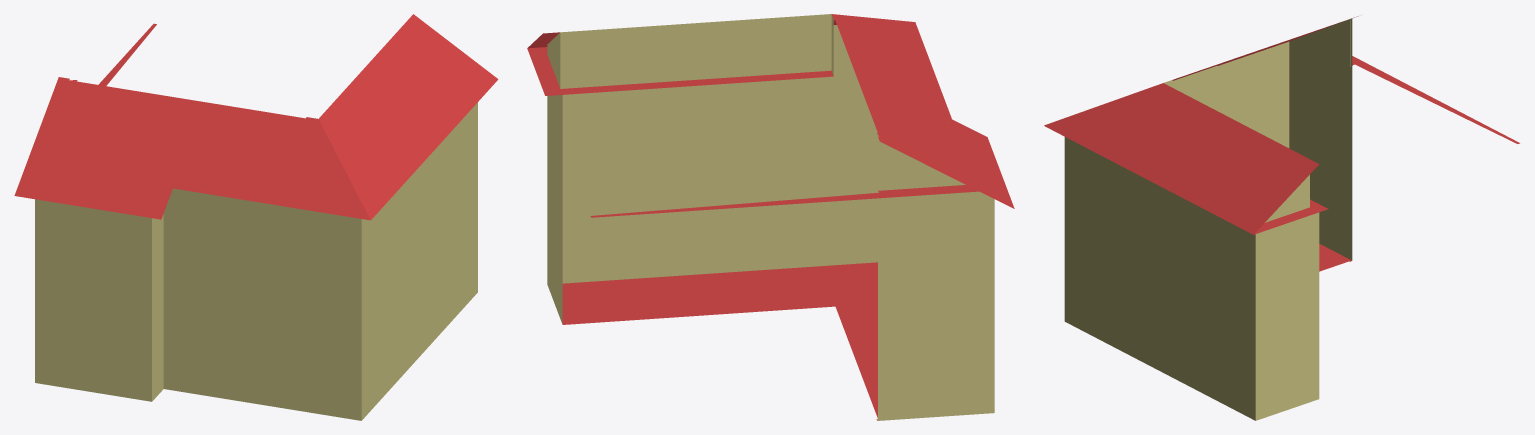
3 renders of one model, left to right at view 1: azimuth 30°, elevation 25°; view 2: azimuth 150°, elevation 25°; view 3: azimuth 270°, elevation 25°, orthographic. The views are drawn at different scales.
Size of the model in its own units: 16.66 by 15.92 by 8.95.
